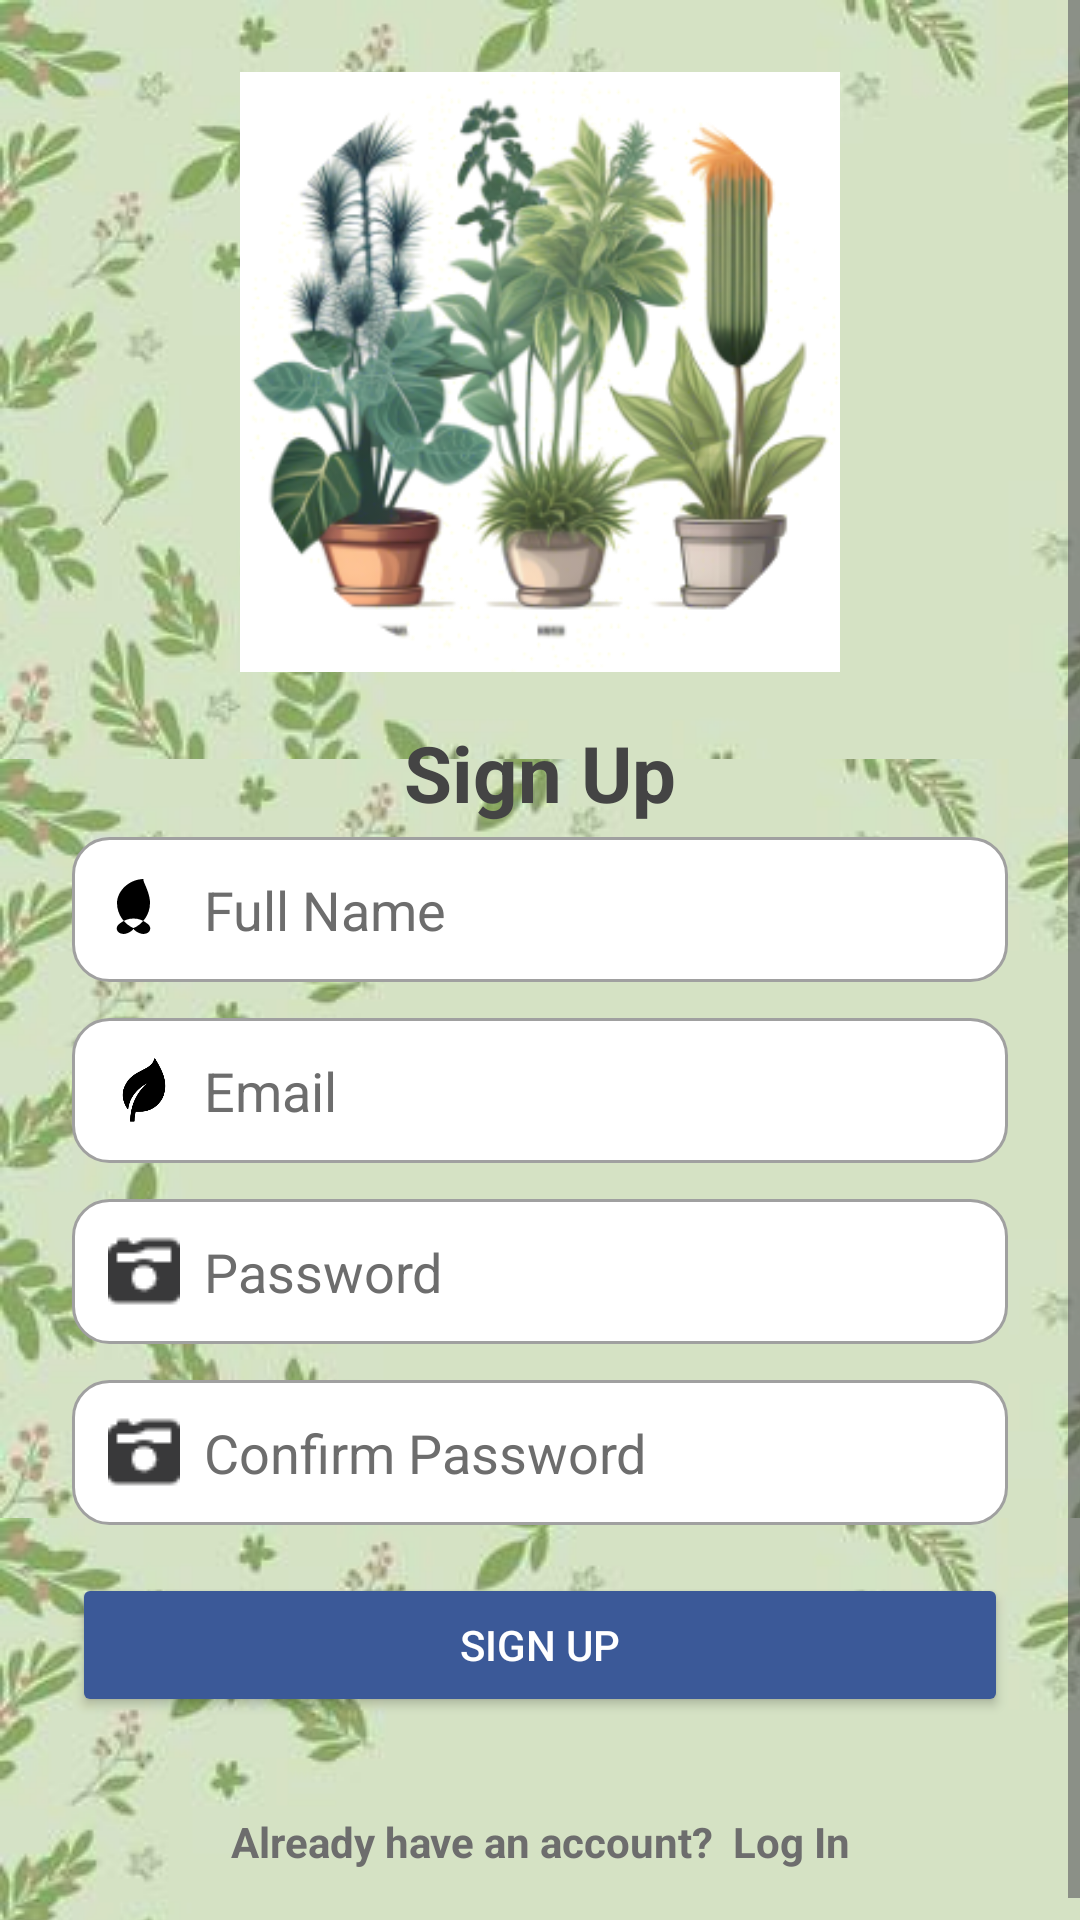

Where to tap for icons on this 1080 × 1920 app screen, as [x,y]:
leaf: [144,1090]
username: [133,906]
